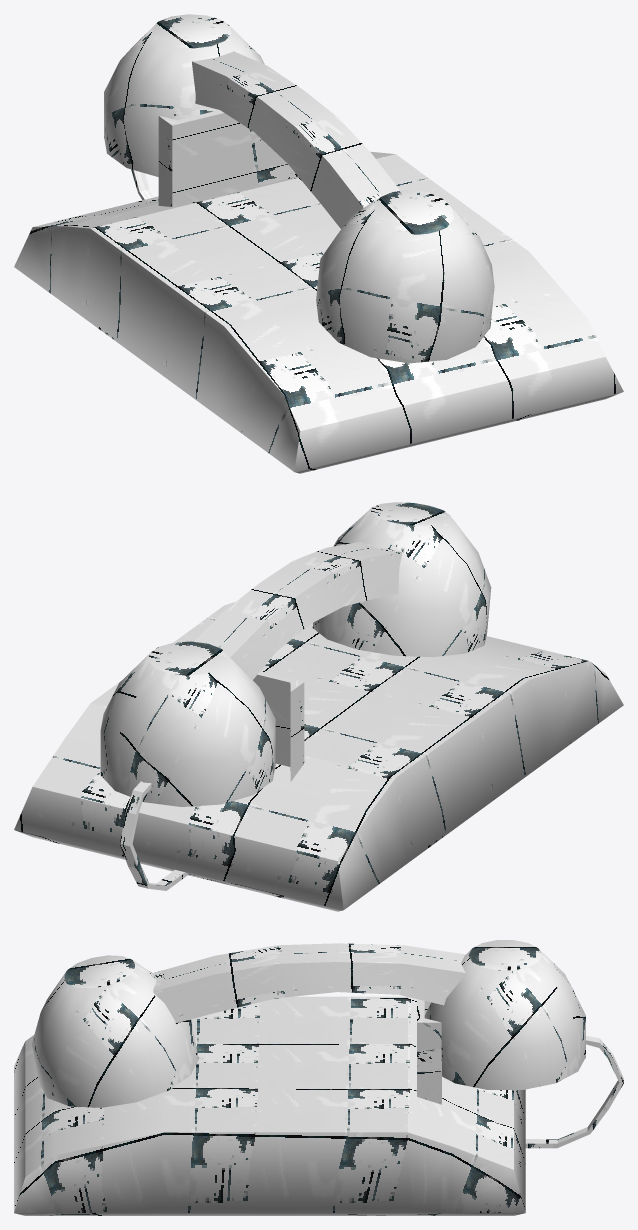
The model's file is Telephone.FBX.
The picture shows the model from 3 angles, top to bottom: view 1: azimuth 30°, elevation 25°; view 2: azimuth 150°, elevation 25°; view 3: azimuth 270°, elevation 25°; orthographic projection. The views are drawn at different scales.
Parts seen in each view (by area): view 1: Telephone; view 2: Telephone; view 3: Telephone.
Boxes of the visible parts, x1=… form: Telephone: x1=14, y1=14, x2=623, y2=473; Telephone: x1=14, y1=502, x2=623, y2=911; Telephone: x1=14, y1=940, x2=623, y2=1215.
Size of the model in its own units: 0.4582 by 0.8047 by 0.2855.
1 material, 1 textured.
